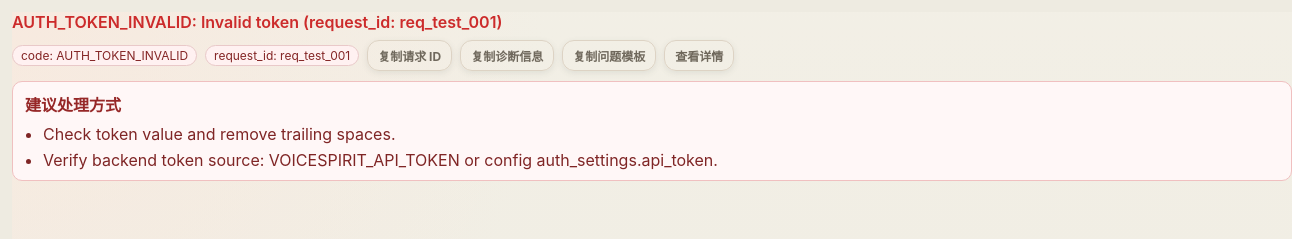
Test: ErrorNotice › shows fallback text when clipboard copy fails
Click the button "复制请求 ID" at (410, 56), box x1=367 y1=40 x2=452 y2=71
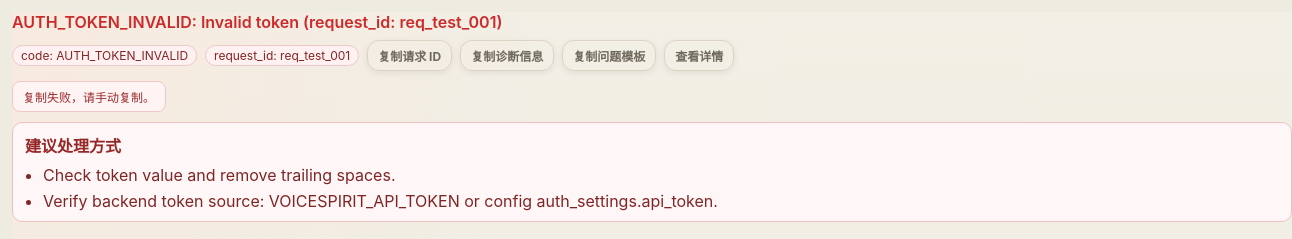
Result: the message reads "复制失败，请手动复制。" at x1=23 y1=90 x2=155 y2=105
